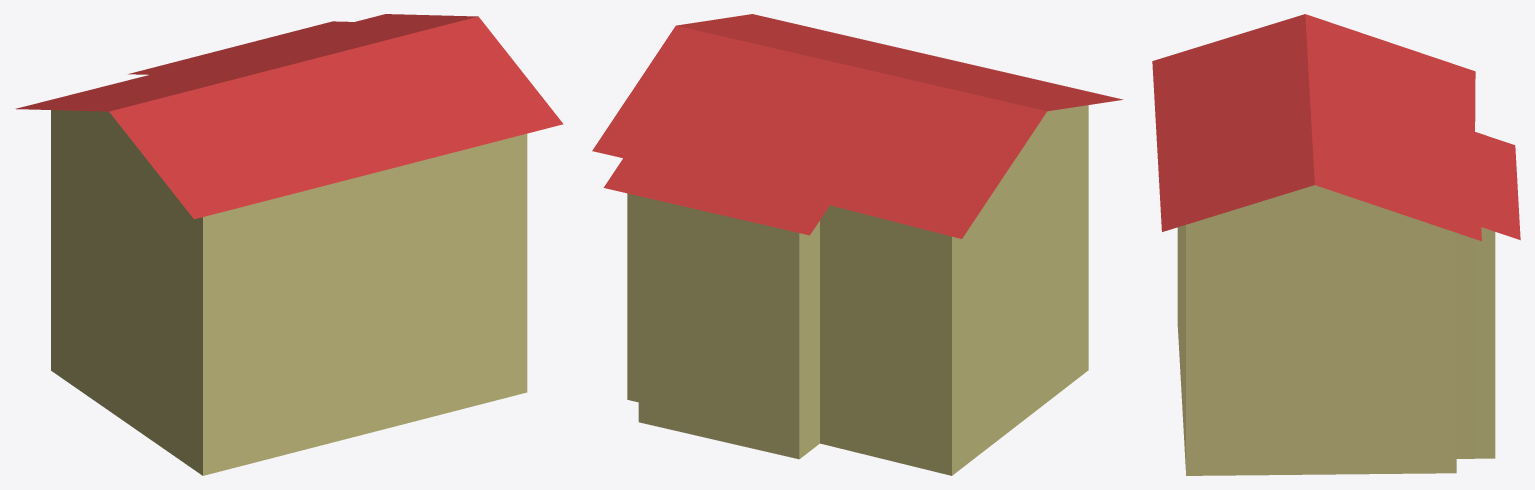
3 views of the same model, side by side, from view 1: azimuth 30°, elevation 25°; view 2: azimuth 150°, elevation 25°; view 3: azimuth 270°, elevation 25° (orthographic). The views are drawn at different scales.
Size of the model in its own units: 12.46 by 11.13 by 10.
